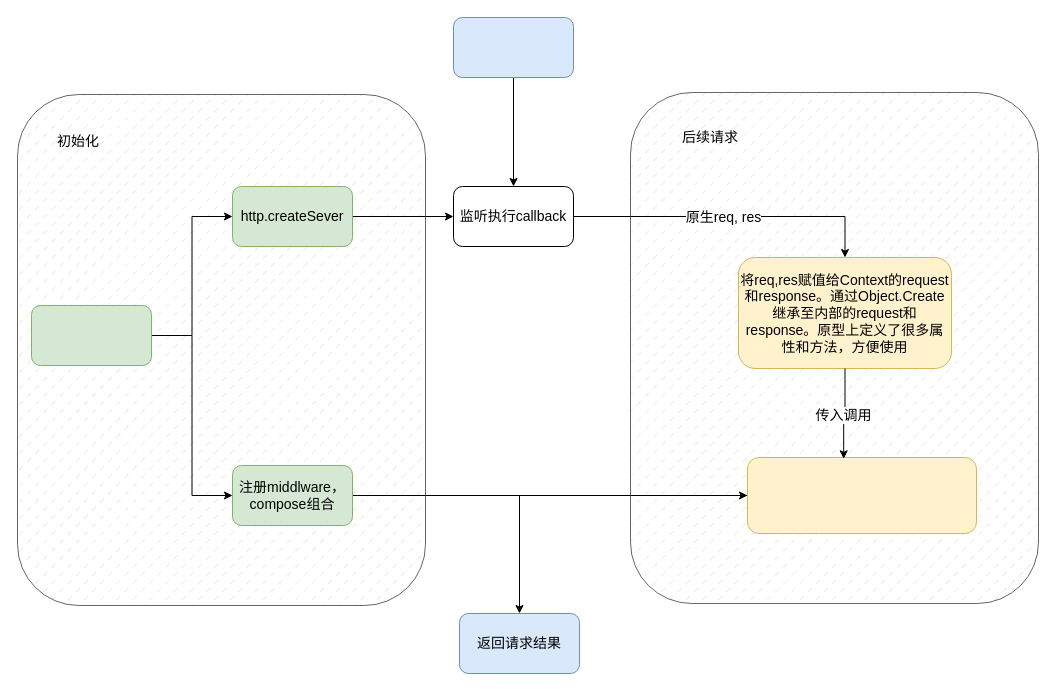
Some shapes in this 1056 by 691 pixel diagram are drawn without their labels. Each missing label, with the box of its shape:
new Koa(): (30, 304, 152, 366)
传入context调用中间件，中间件可以更改context: (746, 456, 976, 534)
收到请求: (452, 16, 574, 78)
